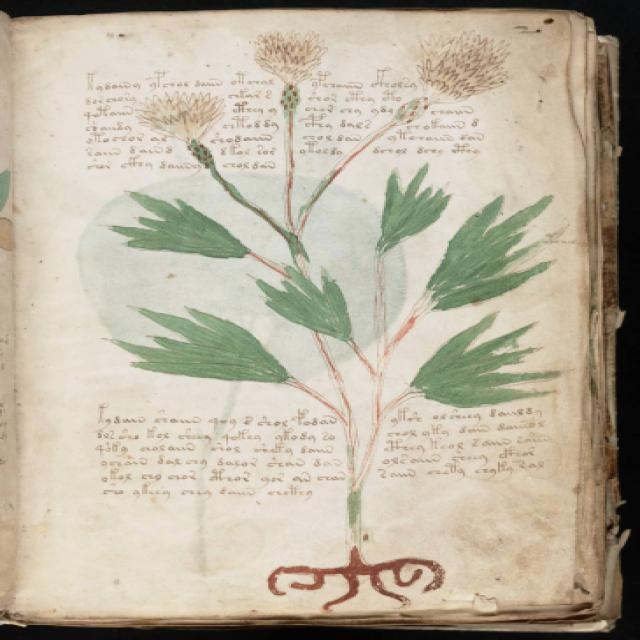plant: (93, 21, 578, 615)
